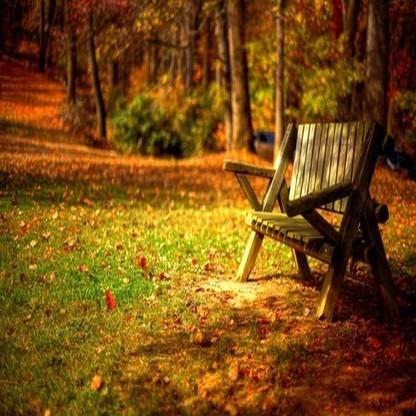obstacle: (220, 111, 392, 308)
